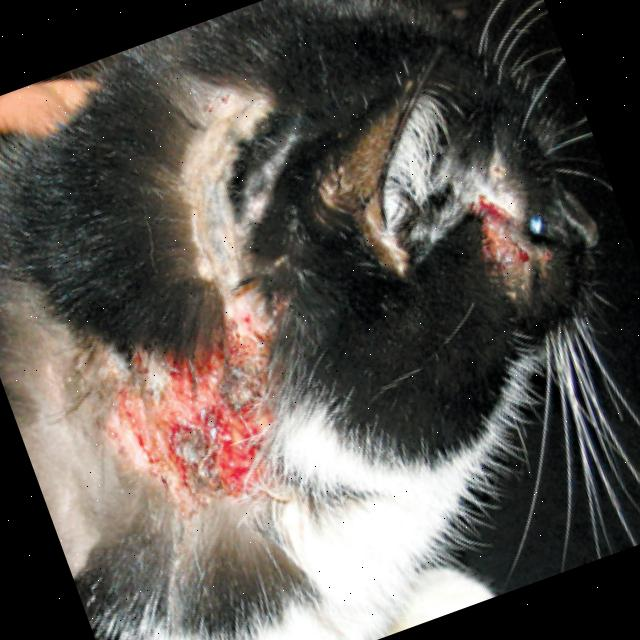cat-dermatitis: (99, 302, 318, 524), (460, 180, 540, 291)
